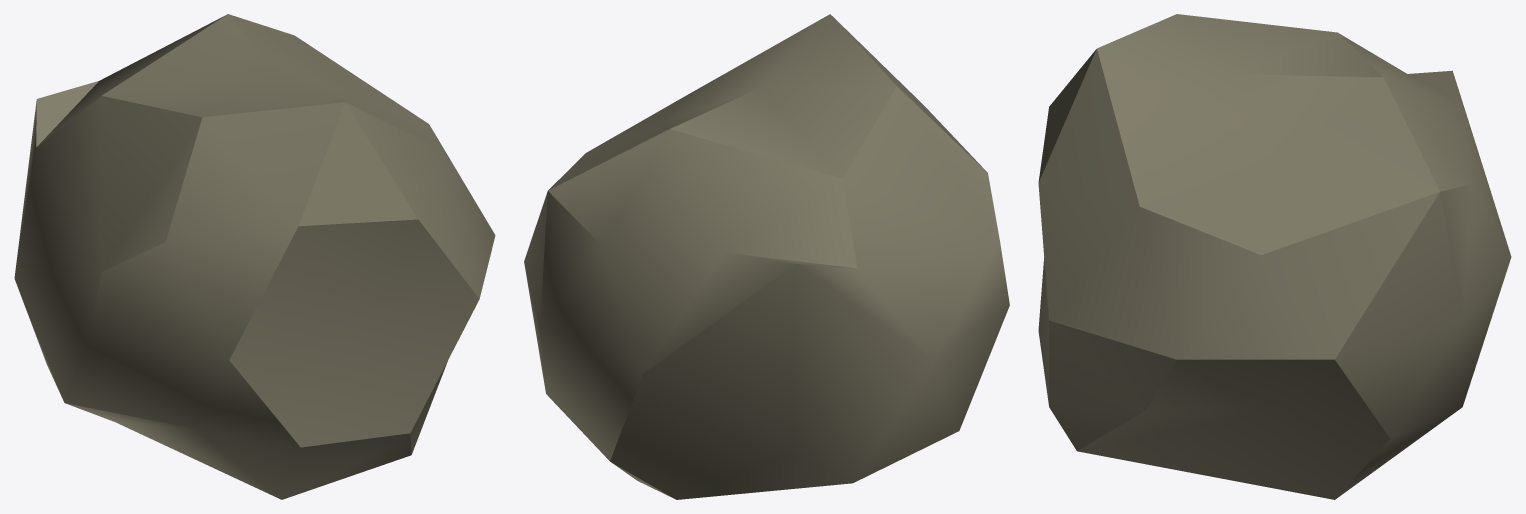
Rendered from Rock.fbx.
3 renders of one model, left to right at view 1: azimuth 30°, elevation 25°; view 2: azimuth 150°, elevation 25°; view 3: azimuth 270°, elevation 25°, orthographic. The views are drawn at different scales.
Parts seen in each view (by area): view 1: Icosphere; view 2: Icosphere; view 3: Icosphere.
Boxes of the visible parts, bbox=[...] form: Icosphere: bbox=[14, 14, 495, 499]; Icosphere: bbox=[524, 14, 1009, 499]; Icosphere: bbox=[1038, 14, 1511, 499].
Size of the model in its own units: 316 by 296 by 308.
